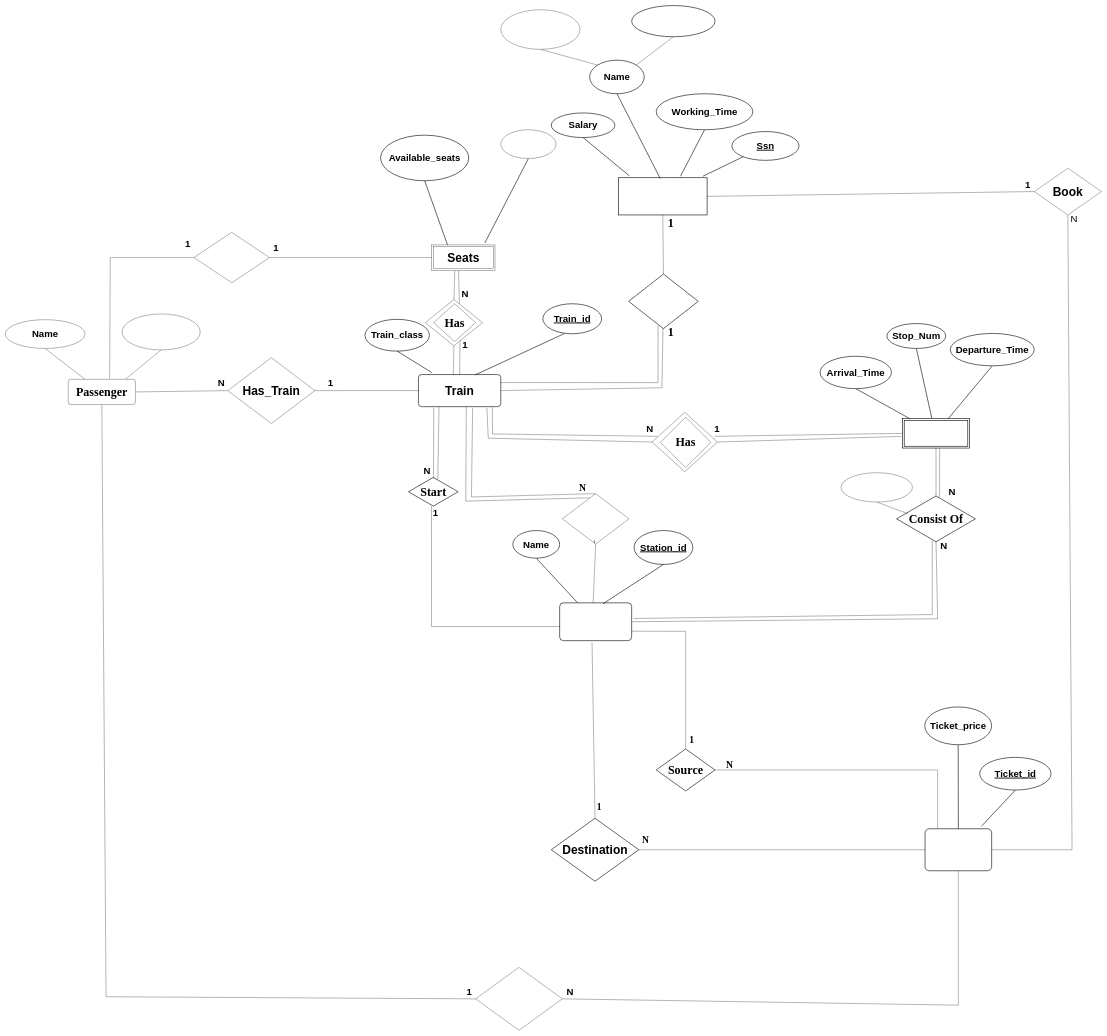
Some shapes in this 1107 by 1036 pixel diagram are drawn without their labels. The centre of each missing label's shape, as x and y in pixels:
"Buys" goes at point (518, 998).
"Contact_Num" goes at point (161, 332).
"Drive" goes at point (663, 301).
"Empolyees" goes at point (662, 196).
"End" goes at point (595, 518).
"First_Name" goes at point (540, 29).
"Last_Name" goes at point (673, 21).
"Place" goes at point (232, 257).
"Seats_id" goes at point (528, 144).
"Station" goes at point (595, 621).
"Station_Num" goes at point (876, 487).
"Tickets" goes at point (958, 849).
"Trip" goes at point (936, 433).
